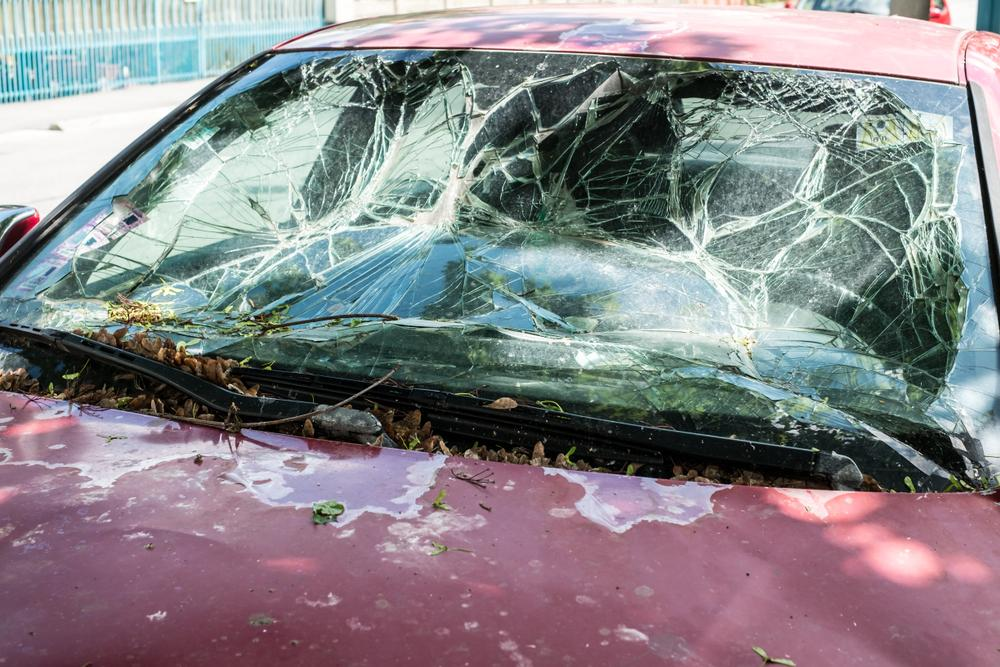glass shatter: (0, 50, 1000, 488)
